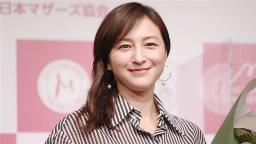face: (114, 24, 164, 90)
